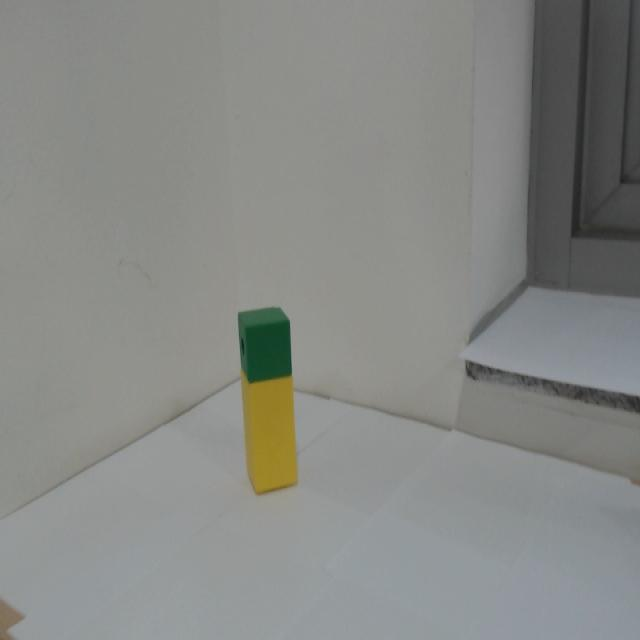cube: (237, 303, 292, 384)
